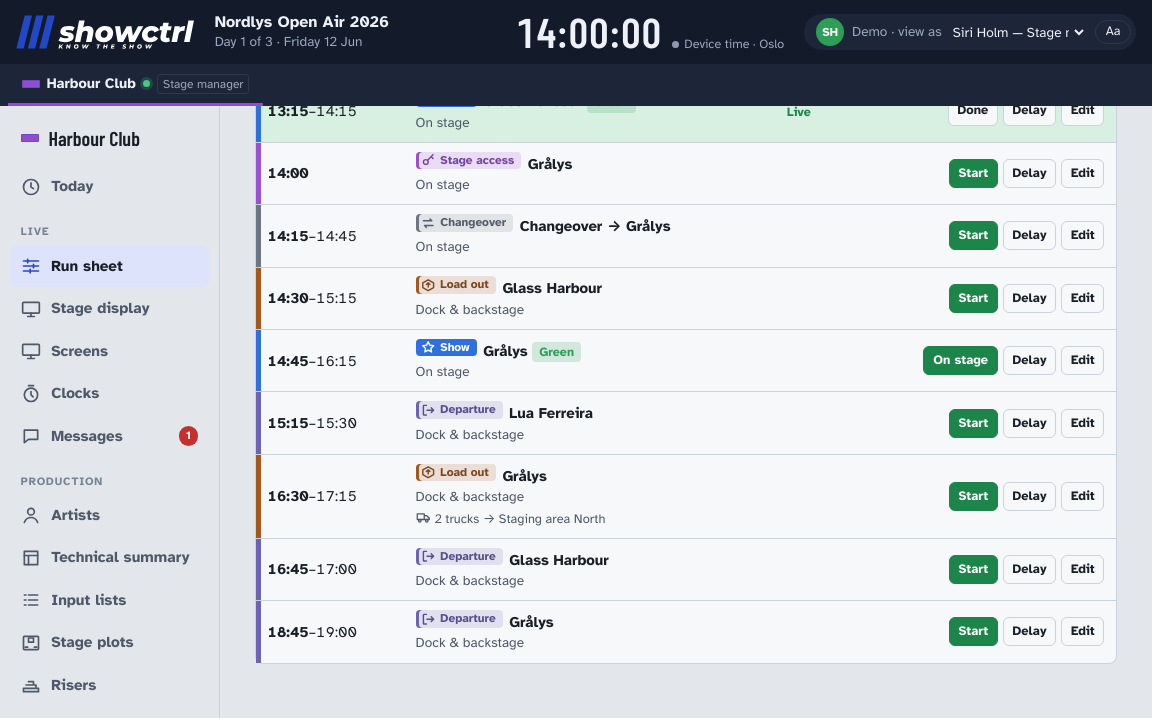
Test: run sheet › delays an item and everything after it that day
(page scrolled)
Click the button "Delay" in the row of "–16:15" at (1030,361), box [1003, 346, 1056, 375]
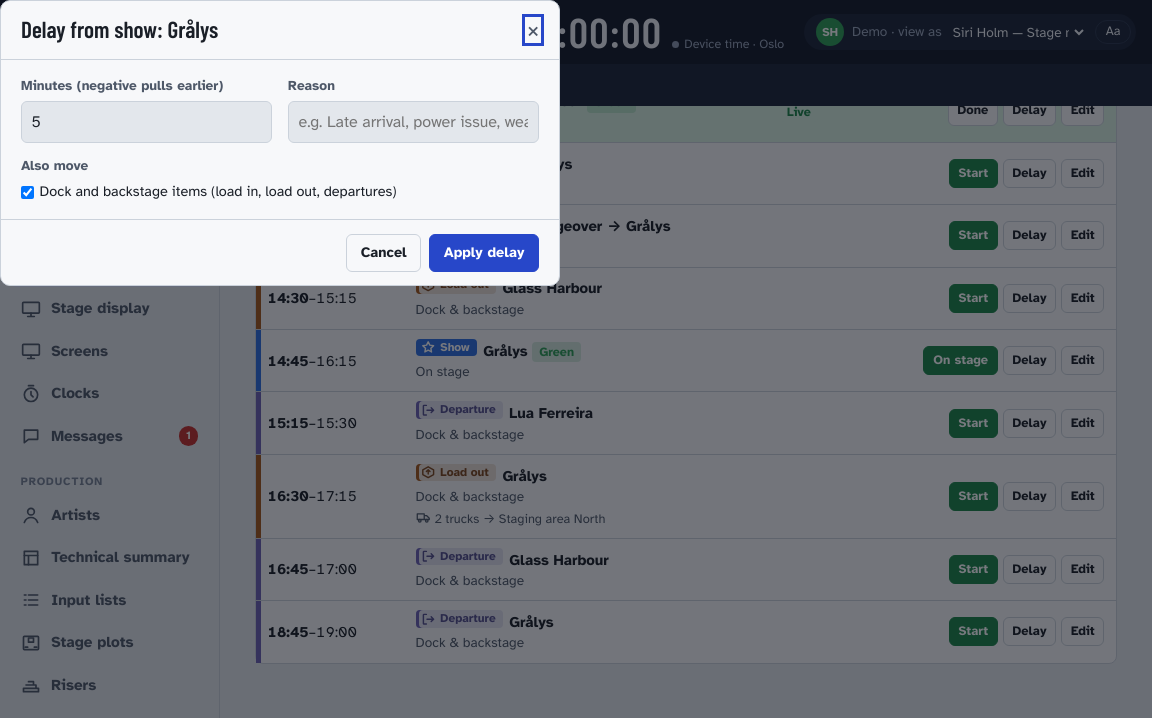
Replace the text in the number field labelled "Minutes (negative pulls earlier)" with "15" at (146,122), box [21, 101, 272, 143]
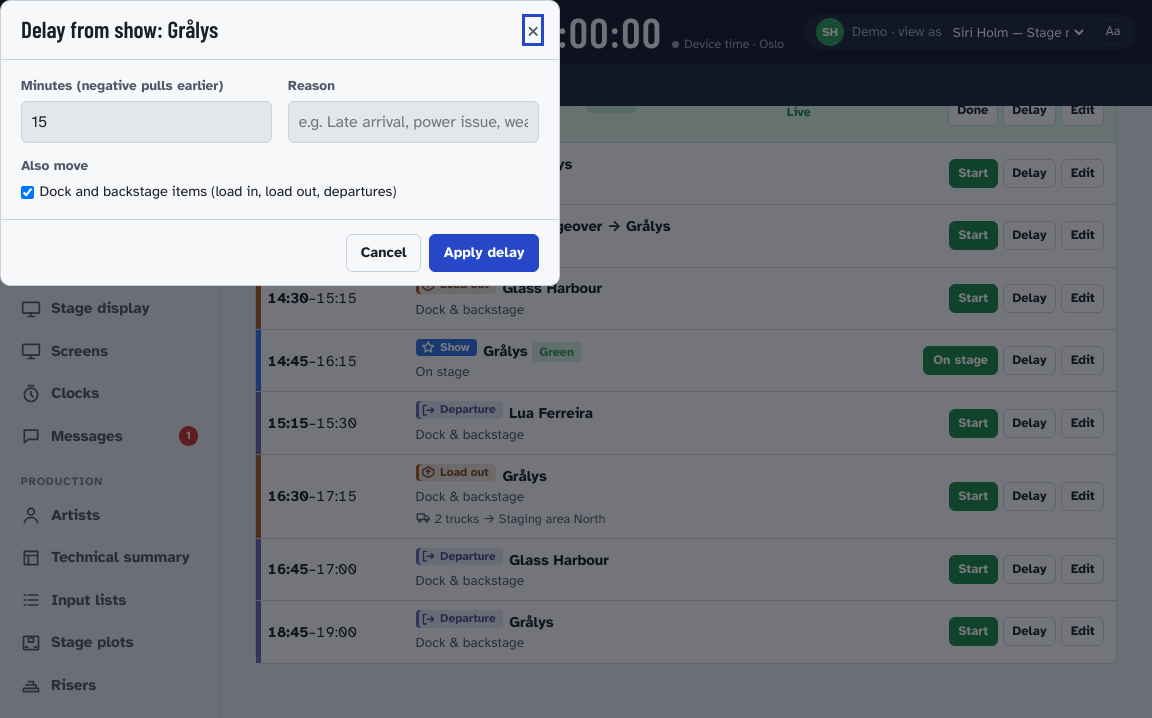
Type "Power issue" into the field labelled "Reason" at (414,122), box [288, 101, 539, 143]
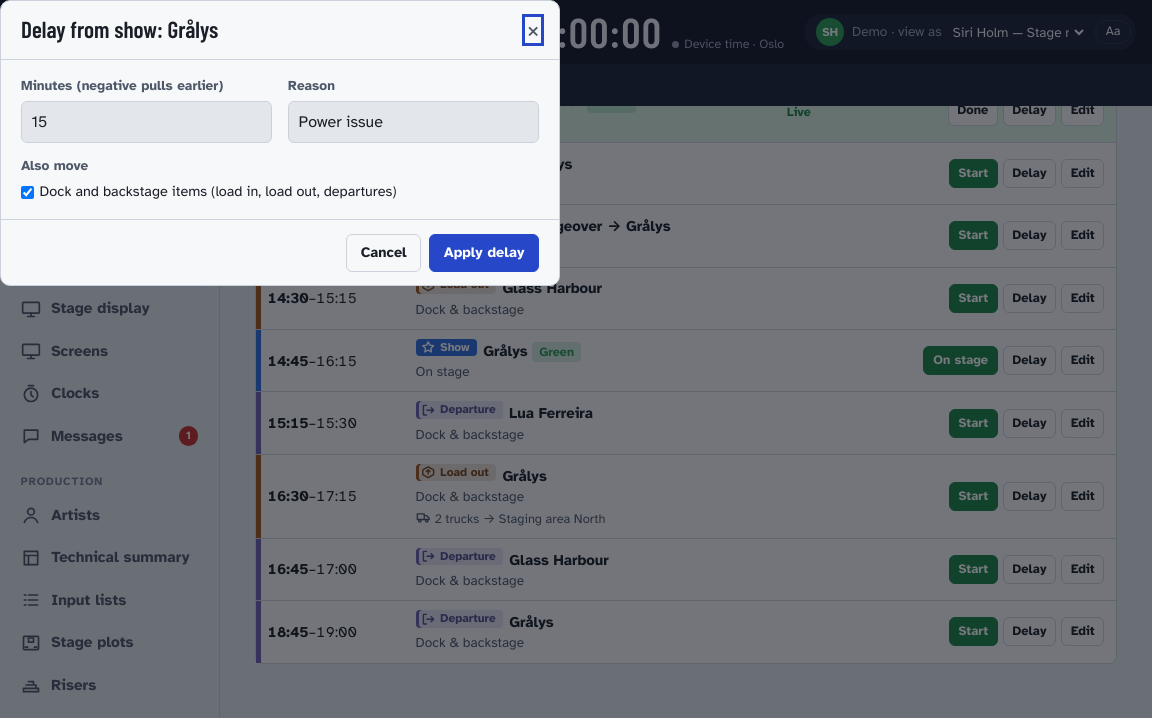
Click the button "Apply delay" at (484,253), box [429, 234, 539, 272]
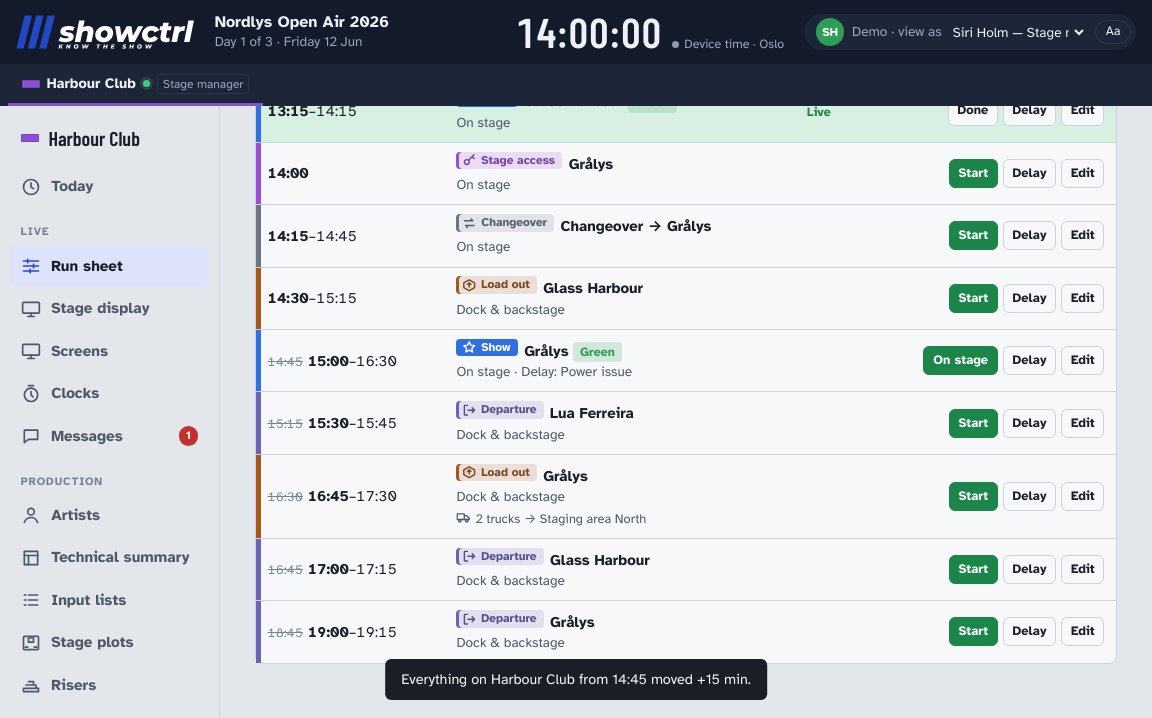
Check: the text "Everything on Harbour Club from 14:45 moved +15 min." is shown, box [401, 669, 751, 690]
